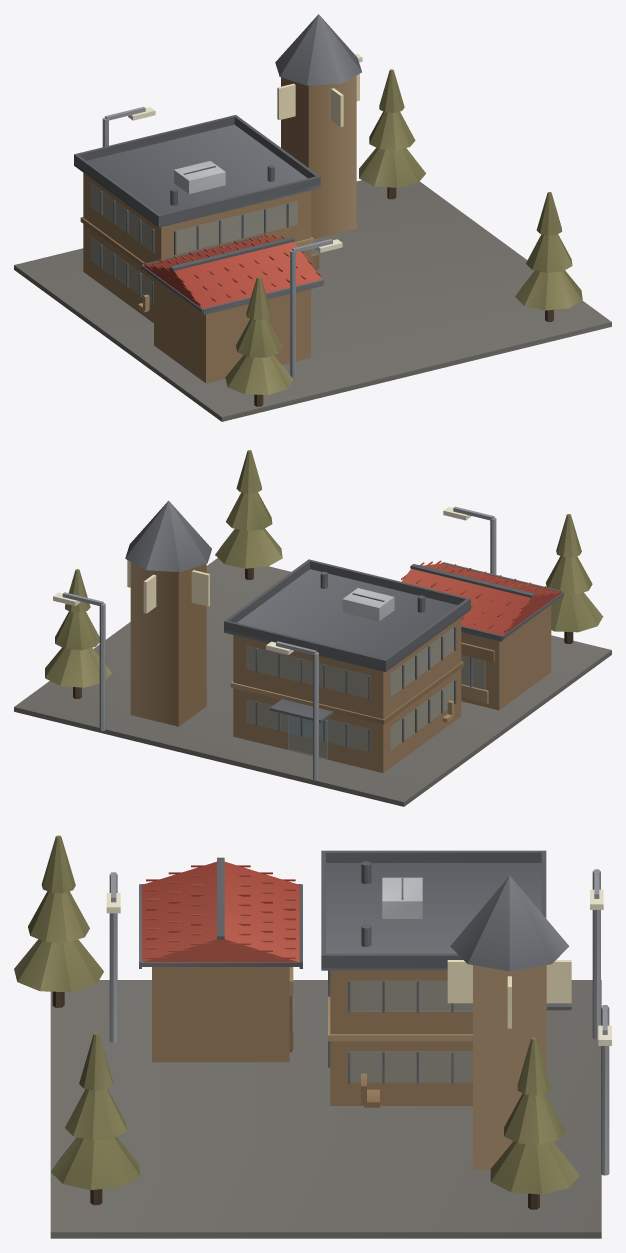
Rendered from Civic_P1.fbx.
3 renders of one model, top to bottom at view 1: azimuth 30°, elevation 25°; view 2: azimuth 150°, elevation 25°; view 3: azimuth 270°, elevation 25°, orthographic. The views are drawn at different scales.
Parts seen in each view (by area): view 1: Civic.Plaza, Civic.Hall, Civic.Shop0, Civic.Tower, Civic.Tree2, Civic.Tree0, Civic.Tree1, Civic.Lamp0, Civic.Lamp2; view 2: Civic.Hall, Civic.Plaza, Civic.Tower, Civic.Shop0, Civic.Tree1, Civic.Tree0, Civic.Tree2, Civic.Lamp1, Civic.Lamp2, Civic.Lamp0; view 3: Civic.Plaza, Civic.Hall, Civic.Shop0, Civic.Tower, Civic.Tree2, Civic.Tree0, Civic.Tree1, Civic.Lamp0, Civic.Lamp1, Civic.Lamp2.
Part boxes in pixels (x1,y1,x2,y2): Civic.Plaza: [14, 180, 611, 421]; Civic.Hall: [74, 115, 320, 322]; Civic.Shop0: [141, 233, 323, 383]; Civic.Tower: [275, 14, 361, 238]; Civic.Tree2: [225, 276, 293, 406]; Civic.Tree0: [359, 69, 425, 199]; Civic.Tree1: [515, 192, 582, 321]; Civic.Lamp0: [290, 239, 342, 377]; Civic.Lamp2: [102, 107, 155, 146]; Civic.Hall: [224, 559, 470, 773]; Civic.Plaza: [14, 558, 611, 806]; Civic.Tower: [125, 500, 211, 726]; Civic.Shop0: [401, 560, 563, 710]; Civic.Tree1: [215, 450, 282, 579]; Civic.Tree0: [45, 569, 111, 698]; Civic.Tree2: [546, 514, 603, 643]; Civic.Lamp1: [53, 592, 105, 730]; Civic.Lamp2: [266, 641, 318, 779]; Civic.Lamp0: [443, 506, 496, 574]; Civic.Plaza: [50, 980, 601, 1238]; Civic.Hall: [321, 850, 571, 1105]; Civic.Shop0: [139, 857, 302, 1062]; Civic.Tower: [447, 876, 571, 1169]; Civic.Tree2: [14, 835, 103, 1007]; Civic.Tree0: [490, 1037, 579, 1209]; Civic.Tree1: [51, 1033, 140, 1205]; Civic.Lamp0: [106, 872, 120, 1042]; Civic.Lamp1: [598, 1005, 611, 1175]; Civic.Lamp2: [590, 869, 603, 1039].
Bounding box in the file's own units: 2600 × 1371 × 2604.
